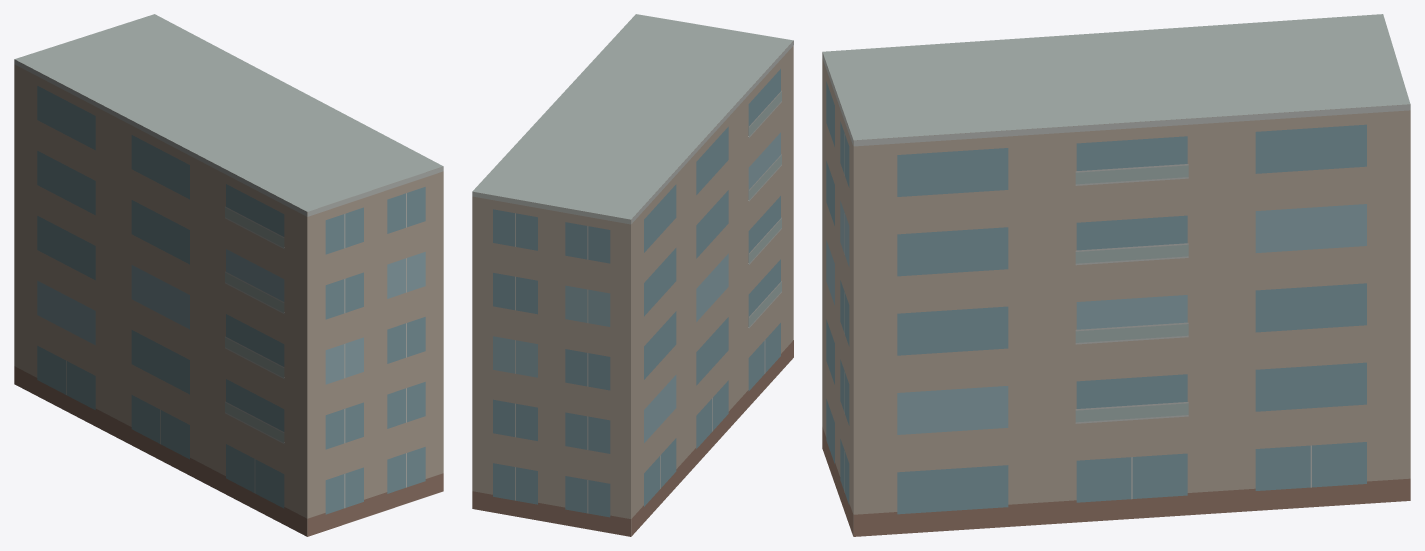
File: survey-upis-32986482.glb
The picture shows the model from 3 angles, left to right: view 1: azimuth 30°, elevation 25°; view 2: azimuth 150°, elevation 25°; view 3: azimuth 270°, elevation 25°; orthographic projection. The views are drawn at different scales.
Parts seen in each view (by area): view 1: survey-upis-32986482.tmp; view 2: survey-upis-32986482.tmp; view 3: survey-upis-32986482.tmp.
Boxes of the visible parts, x1=… form: survey-upis-32986482.tmp: x1=14, y1=14, x2=443, y2=536; survey-upis-32986482.tmp: x1=472, y1=14, x2=793, y2=536; survey-upis-32986482.tmp: x1=822, y1=14, x2=1410, y2=536.
Bounding box in the file's own units: 10.77 × 15.75 × 21.18.
